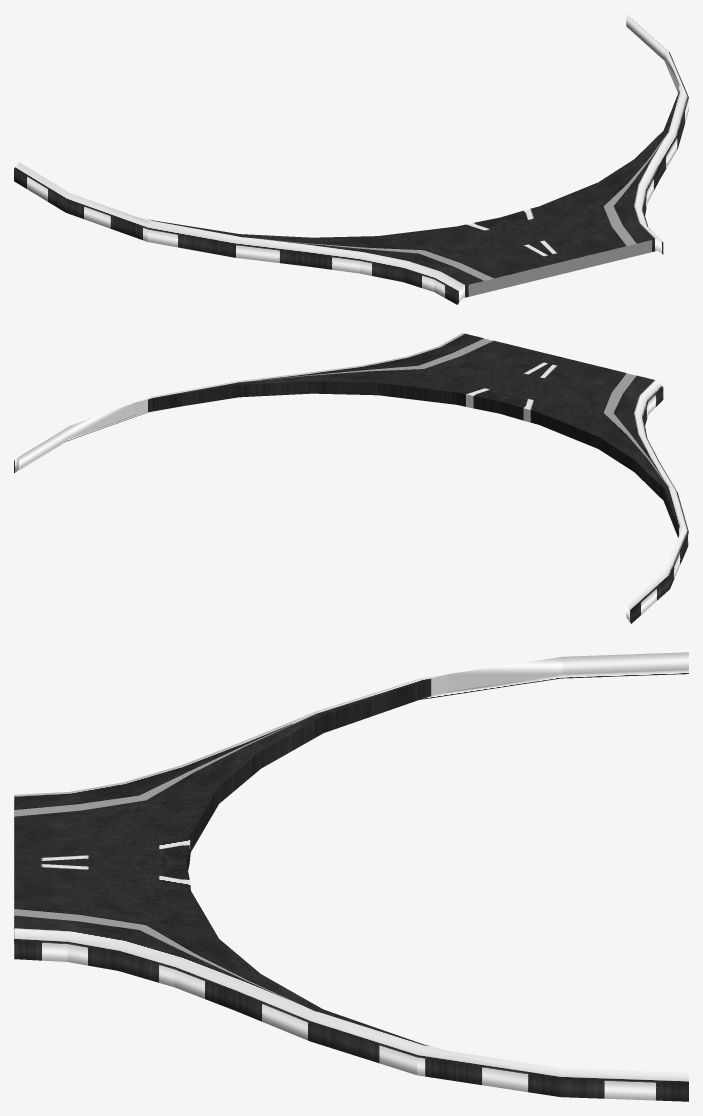
The model's file is TeleDiskHolderFloating.fbx.
The picture shows the model from 3 angles, top to bottom: view 1: azimuth 30°, elevation 25°; view 2: azimuth 150°, elevation 25°; view 3: azimuth 270°, elevation 25°; orthographic projection. The views are drawn at different scales.
Visible parts, largest first — view 1: sbendRight5; view 2: sbendRight5; view 3: sbendRight5.
Part boxes in pixels (box(x1,y1,x2,y2)): sbendRight5: box(14, 14, 688, 304); sbendRight5: box(14, 333, 688, 623); sbendRight5: box(14, 652, 688, 1101).
Bounding box in the file's own units: 6000 × 166 × 4002.
Materials: 2 (1 with a texture image).
